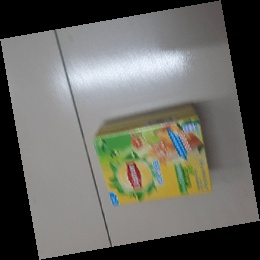LipTon: (93, 103, 213, 206)
